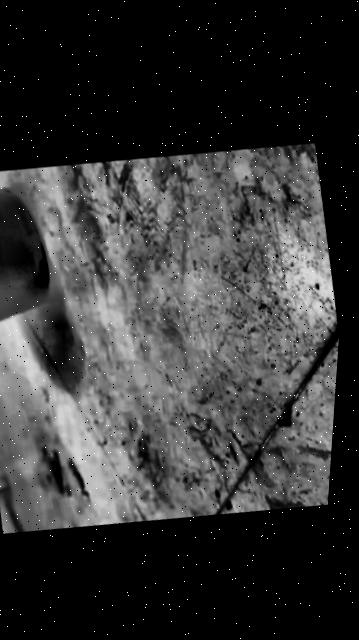pot: (0, 170, 64, 354)
